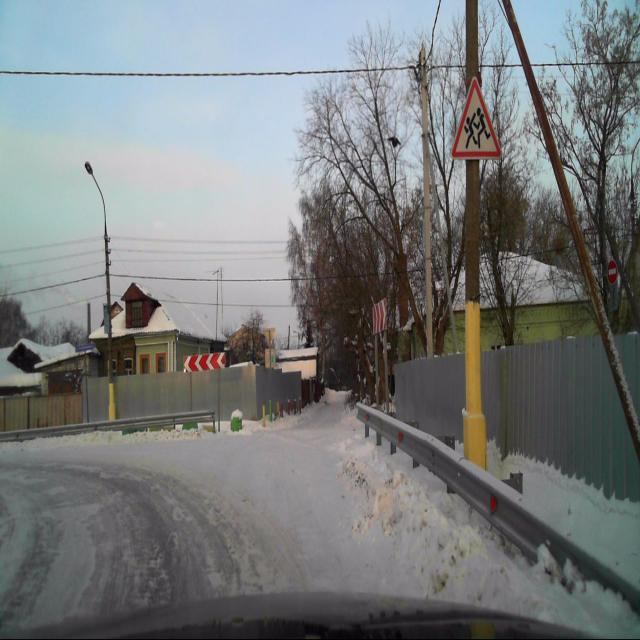road sign: (452, 76, 502, 159), (184, 352, 227, 373), (372, 297, 388, 333), (607, 258, 618, 287)
